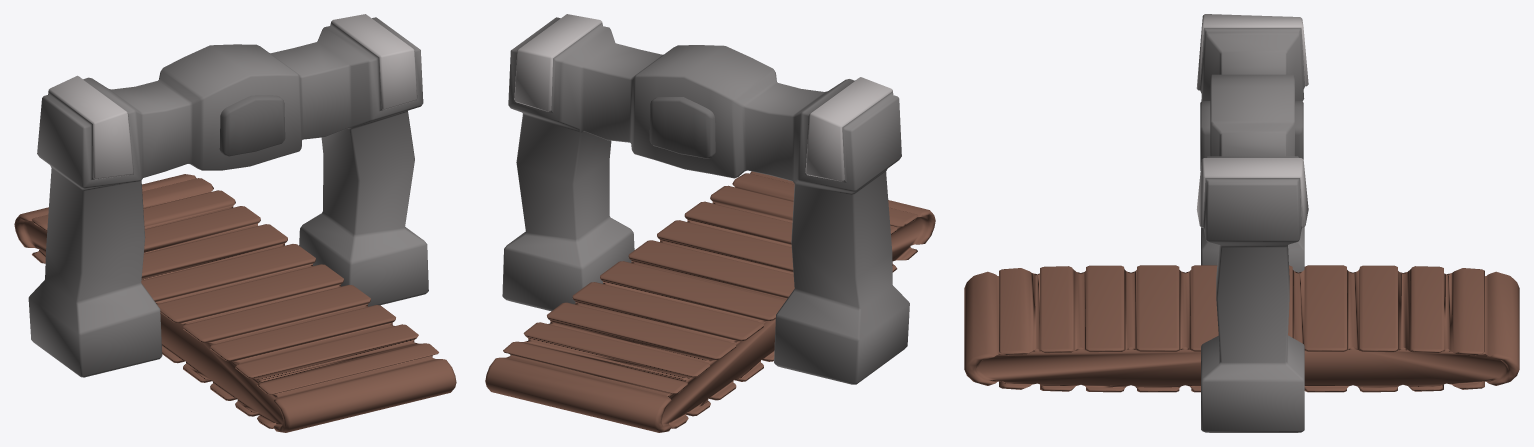
The model's file is bant2.fbx.
3 views of the same model, side by side, from view 1: azimuth 30°, elevation 25°; view 2: azimuth 150°, elevation 25°; view 3: azimuth 270°, elevation 25° (orthographic).
Parts seen in each view (by area): view 1: Cube.168, Cylinder.002; view 2: Cube.168, Cylinder.002; view 3: Cylinder.002, Cube.168.
Boxes of the visible parts, x1,y1,x2,y2 form: Cube.168: [28, 14, 428, 377]; Cylinder.002: [14, 174, 456, 432]; Cube.168: [502, 14, 909, 384]; Cylinder.002: [485, 171, 935, 432]; Cylinder.002: [964, 265, 1519, 392]; Cube.168: [1196, 14, 1308, 432].
Bounding box in the file's own units: 441 × 314 × 598.
